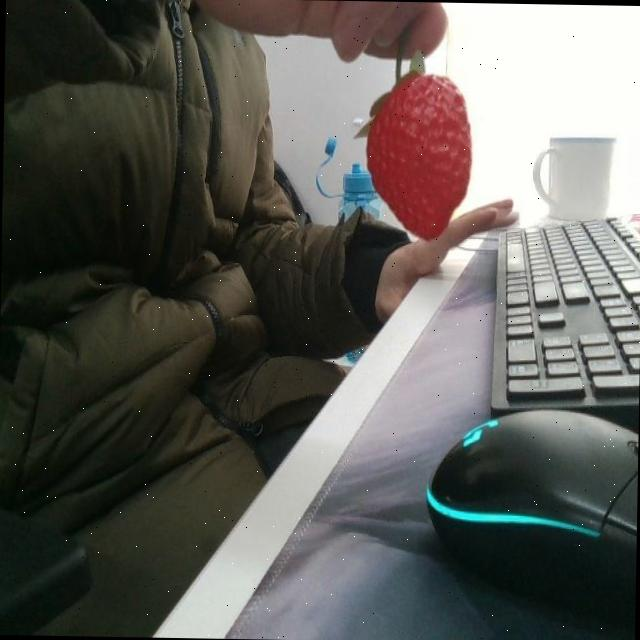strawberry: (360, 66, 474, 244)
